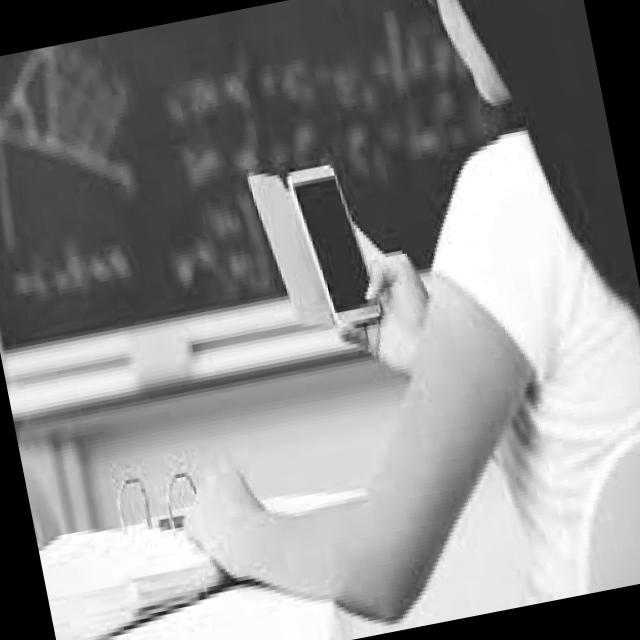phone: (283, 156, 383, 336)
